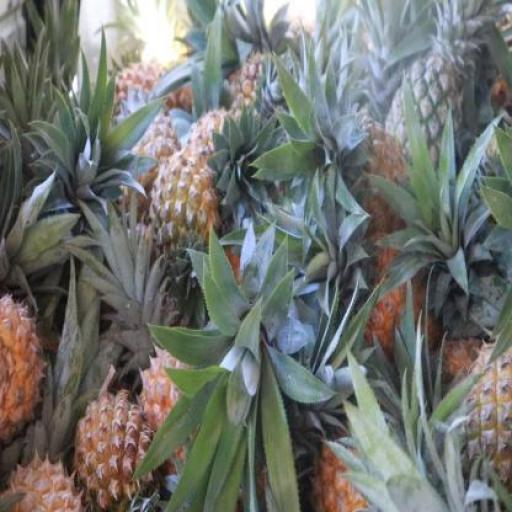------------------------------: (149, 148, 217, 280)
Pineapple - v8 v1: (76, 394, 153, 512), (2, 292, 44, 439)
